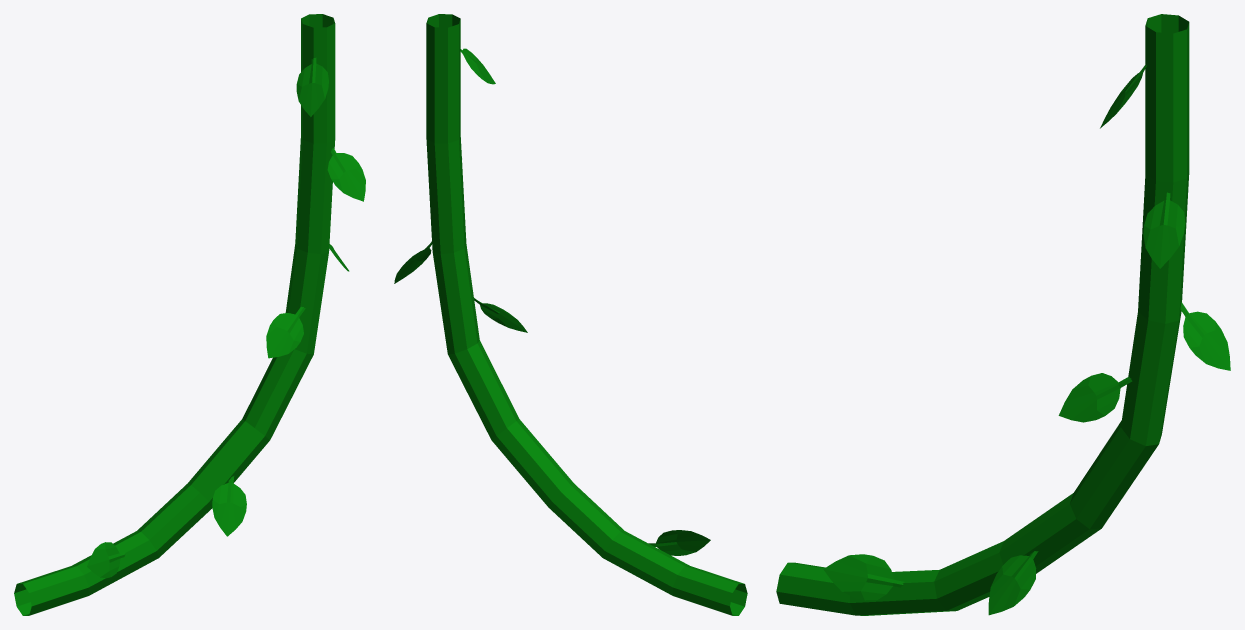
File: LowPolyVine.fbx
3 views of the same model, side by side, from view 1: azimuth 30°, elevation 25°; view 2: azimuth 150°, elevation 25°; view 3: azimuth 330°, elevation 25° (orthographic). The views are drawn at different scales.
Parts seen in each view (by area): view 1: Vine; view 2: Vine; view 3: Vine.
Part boxes in pixels (x1,y1,x2,y2): Vine: [14, 14, 365, 615]; Vine: [394, 14, 747, 615]; Vine: [776, 14, 1230, 615].
Bounding box in the file's own units: 140 × 209 × 29.47.
